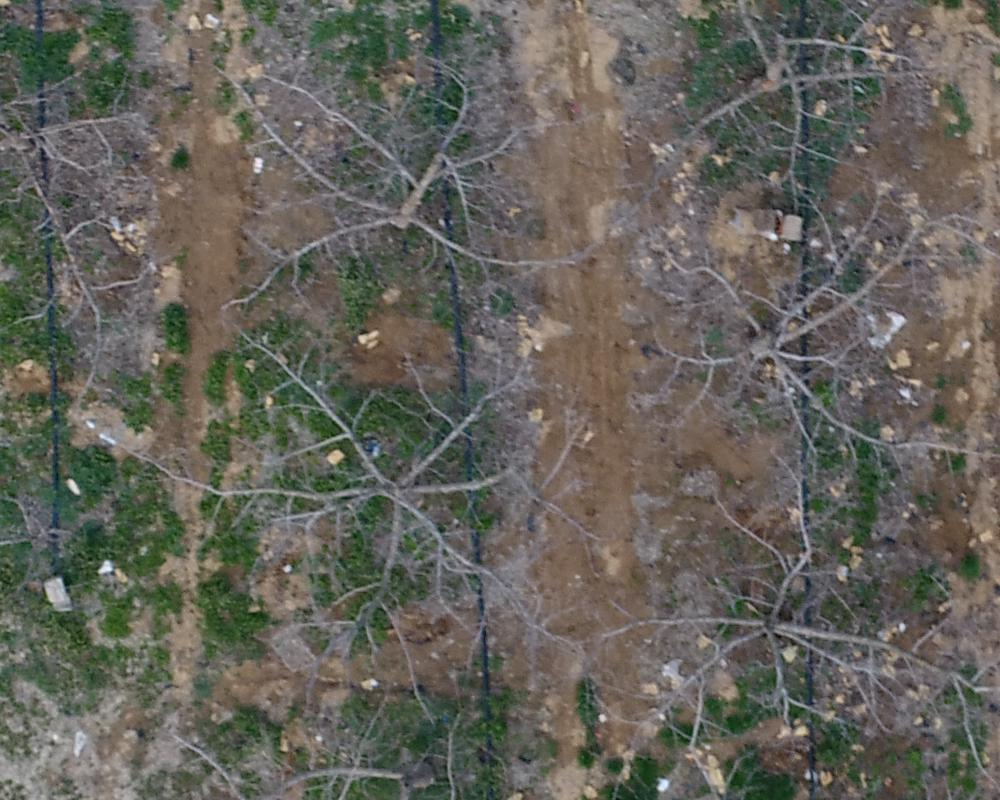apple: (142, 334, 594, 666), (597, 471, 990, 754), (625, 197, 990, 486), (210, 52, 587, 323), (639, 10, 933, 191), (10, 10, 164, 309)
